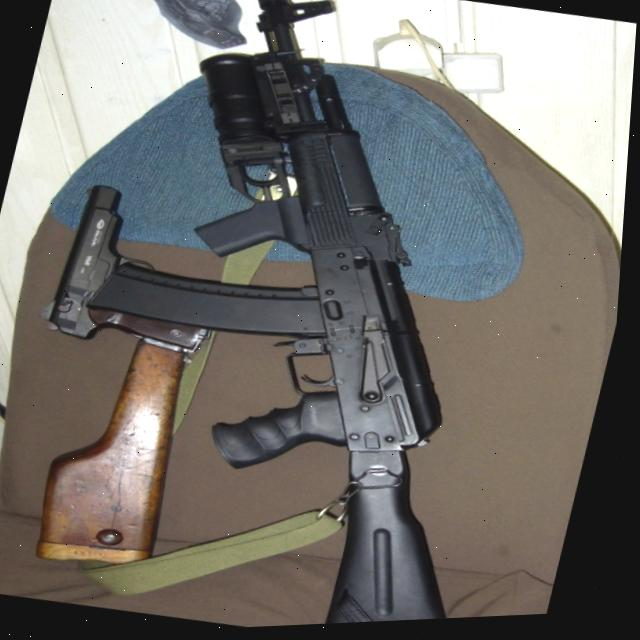firearm: (78, 0, 613, 636)
pistol: (33, 175, 239, 364)
rocket: (166, 42, 327, 218)
